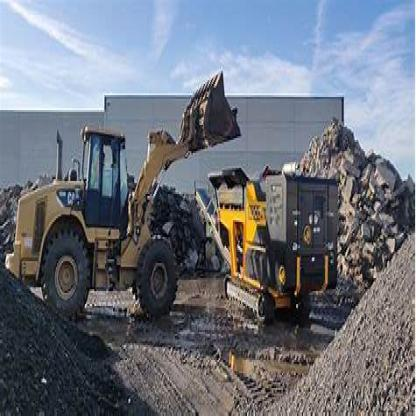bull_dozer/loader/grader: (15, 69, 238, 326)
